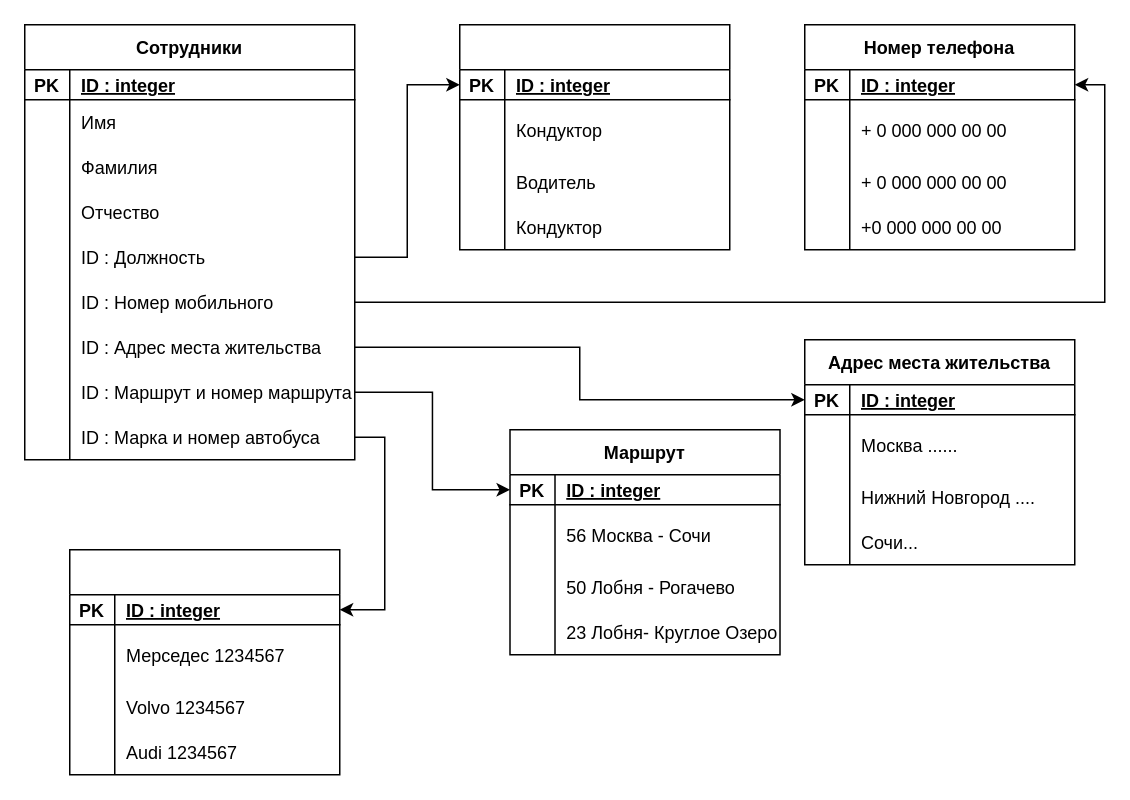
Image size: 1130x800. Some labels were removed from this diagram. Here are the shapes that lost their labels. From the top down, the box of each, then its label:
(458, 23, 730, 250): Должность
(68, 548, 340, 775): Марка и номер автобуса
